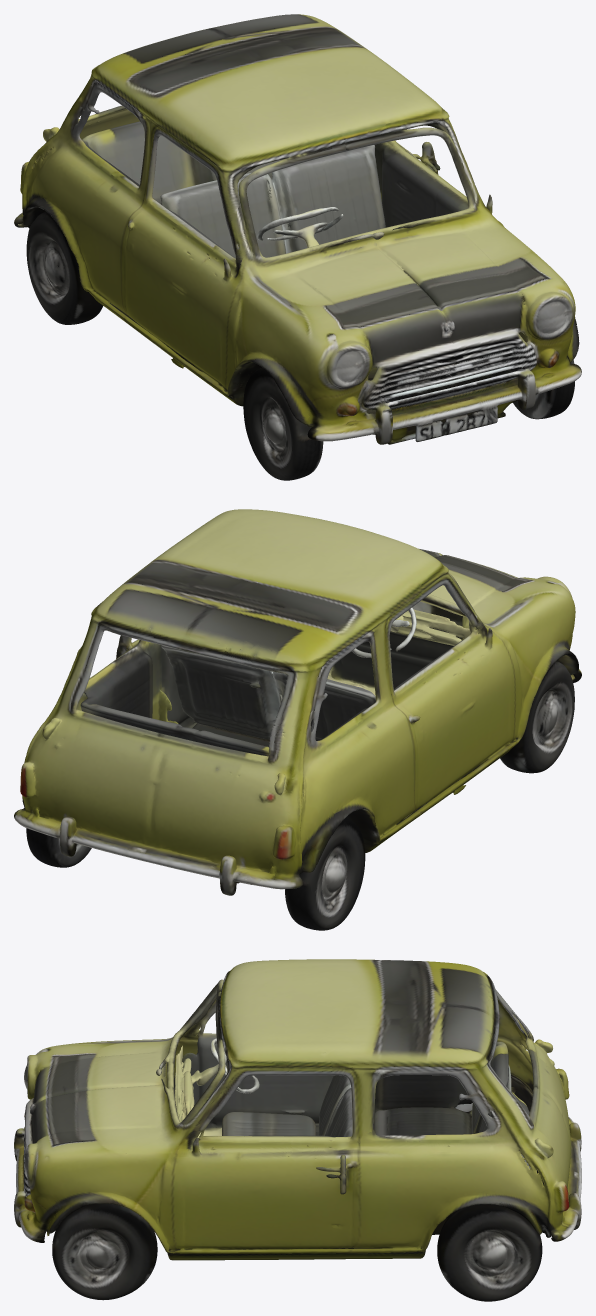
The model's file is car.glb.
3 renders of one model, top to bottom at view 1: azimuth 30°, elevation 25°; view 2: azimuth 150°, elevation 25°; view 3: azimuth 270°, elevation 25°, orthographic. The views are drawn at different scales.
Visible parts, largest first — view 1: tripo_node_e13122cf-1bb8-4f09-af0e-b273febbb3f3; view 2: tripo_node_e13122cf-1bb8-4f09-af0e-b273febbb3f3; view 3: tripo_node_e13122cf-1bb8-4f09-af0e-b273febbb3f3.
Boxes of the visible parts, x1,y1,x2,y2 form: tripo_node_e13122cf-1bb8-4f09-af0e-b273febbb3f3: [14, 14, 581, 480]; tripo_node_e13122cf-1bb8-4f09-af0e-b273febbb3f3: [14, 509, 581, 930]; tripo_node_e13122cf-1bb8-4f09-af0e-b273febbb3f3: [14, 959, 581, 1301].
Size of the model in its own units: 0.5751 by 0.4715 by 1.
Materials: 1 (1 with a texture image).
